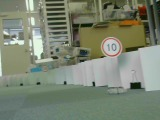speed_10: (99, 36, 123, 58)
